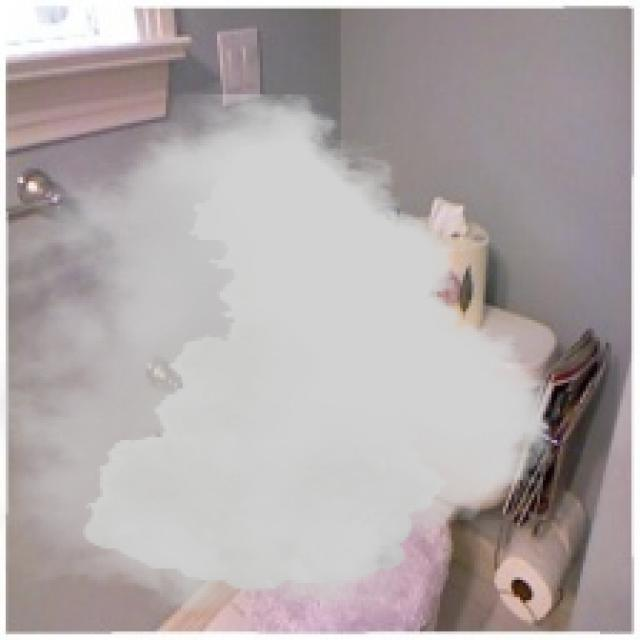smoke: (0, 94, 552, 615)
